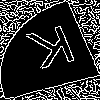K: (24, 25, 83, 79)
